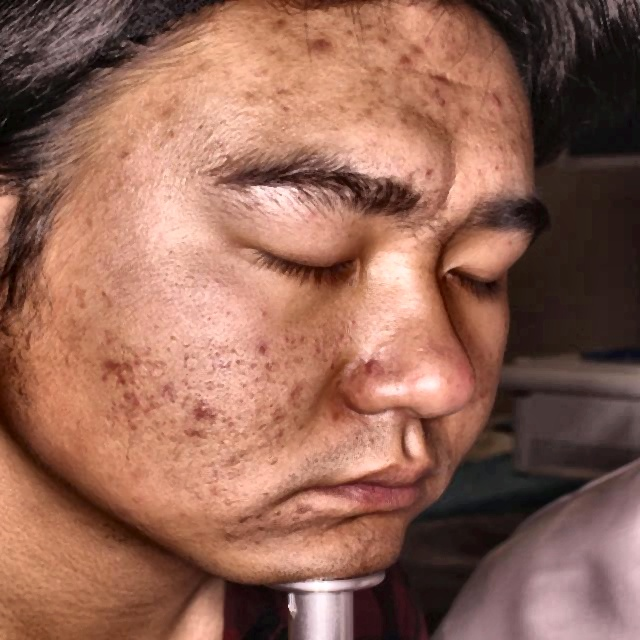pustule: (409, 42, 435, 66), (192, 397, 215, 424), (310, 36, 338, 55), (364, 354, 385, 379), (106, 354, 129, 374), (486, 82, 502, 110), (128, 392, 144, 412)
